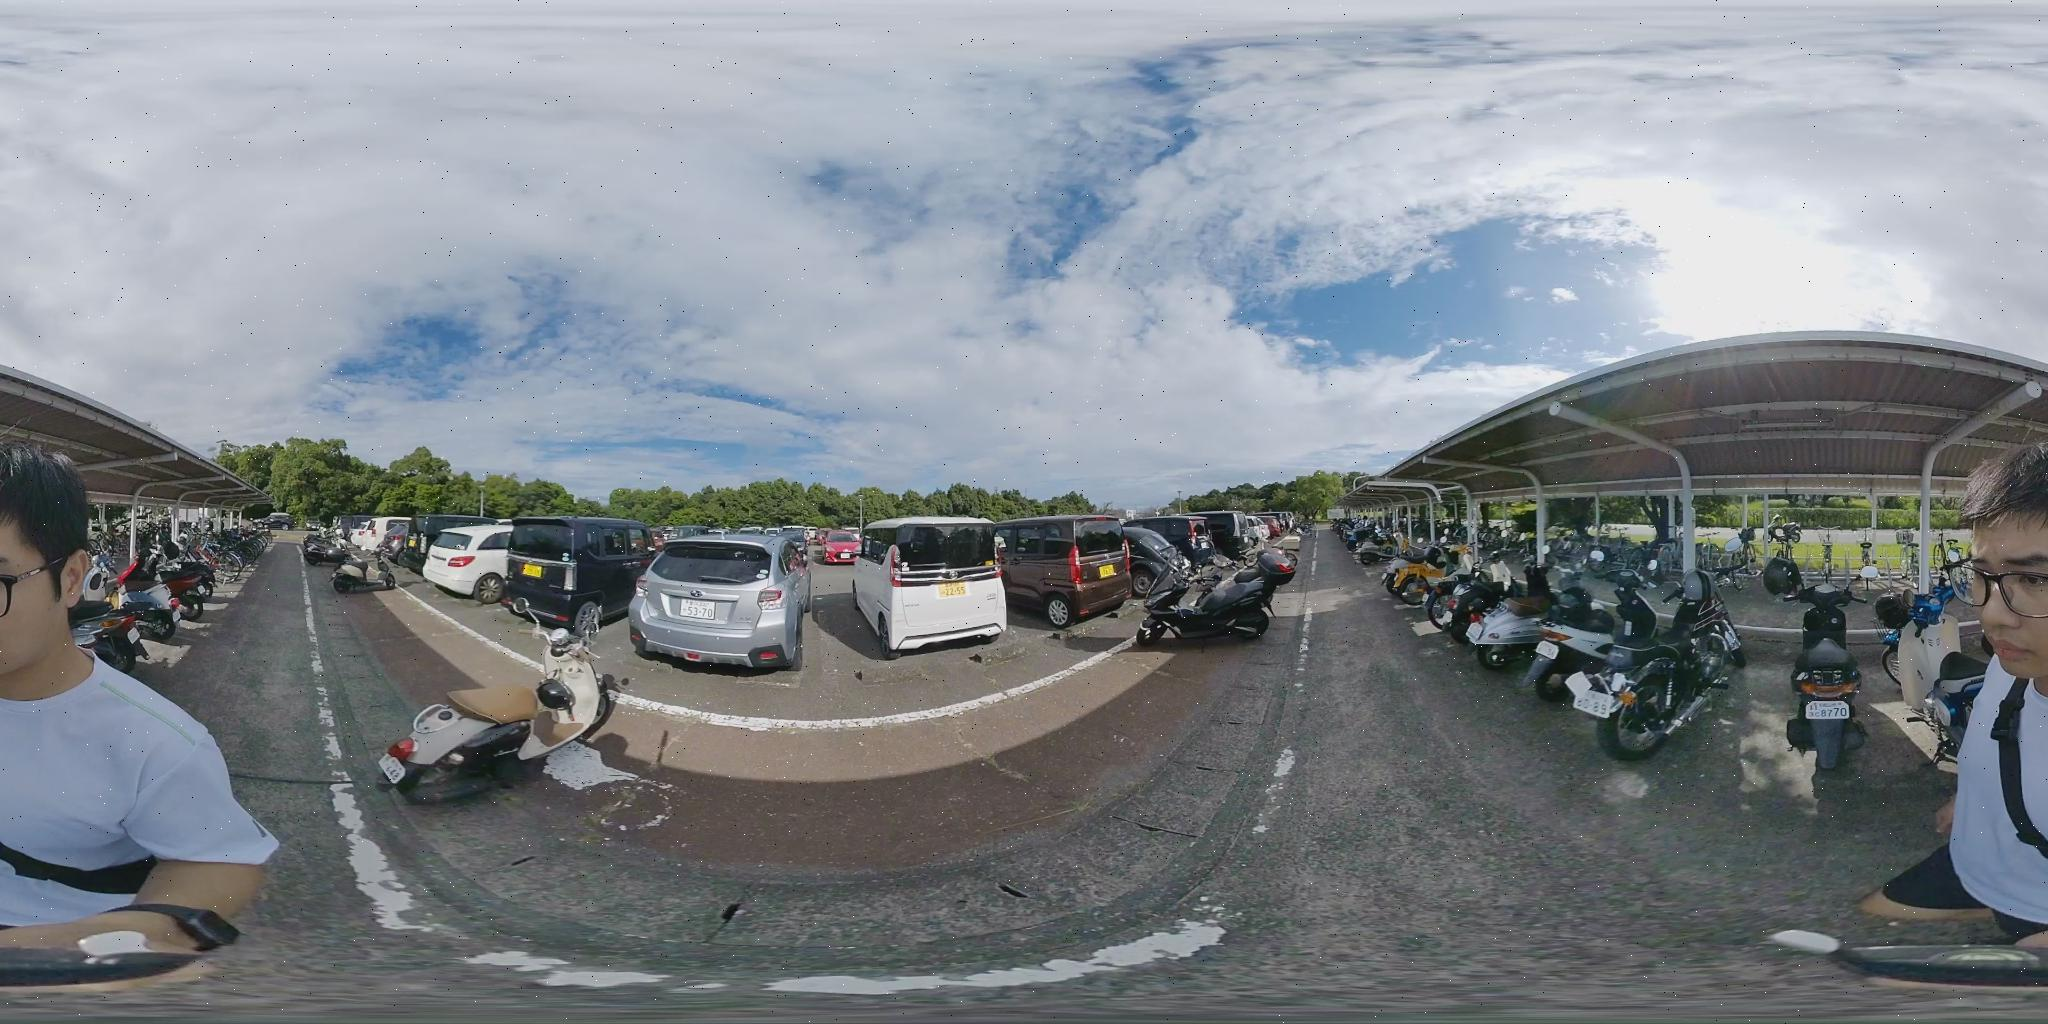car: (627, 534, 814, 674), (458, 519, 660, 620), (856, 521, 998, 652), (990, 516, 1125, 628)
